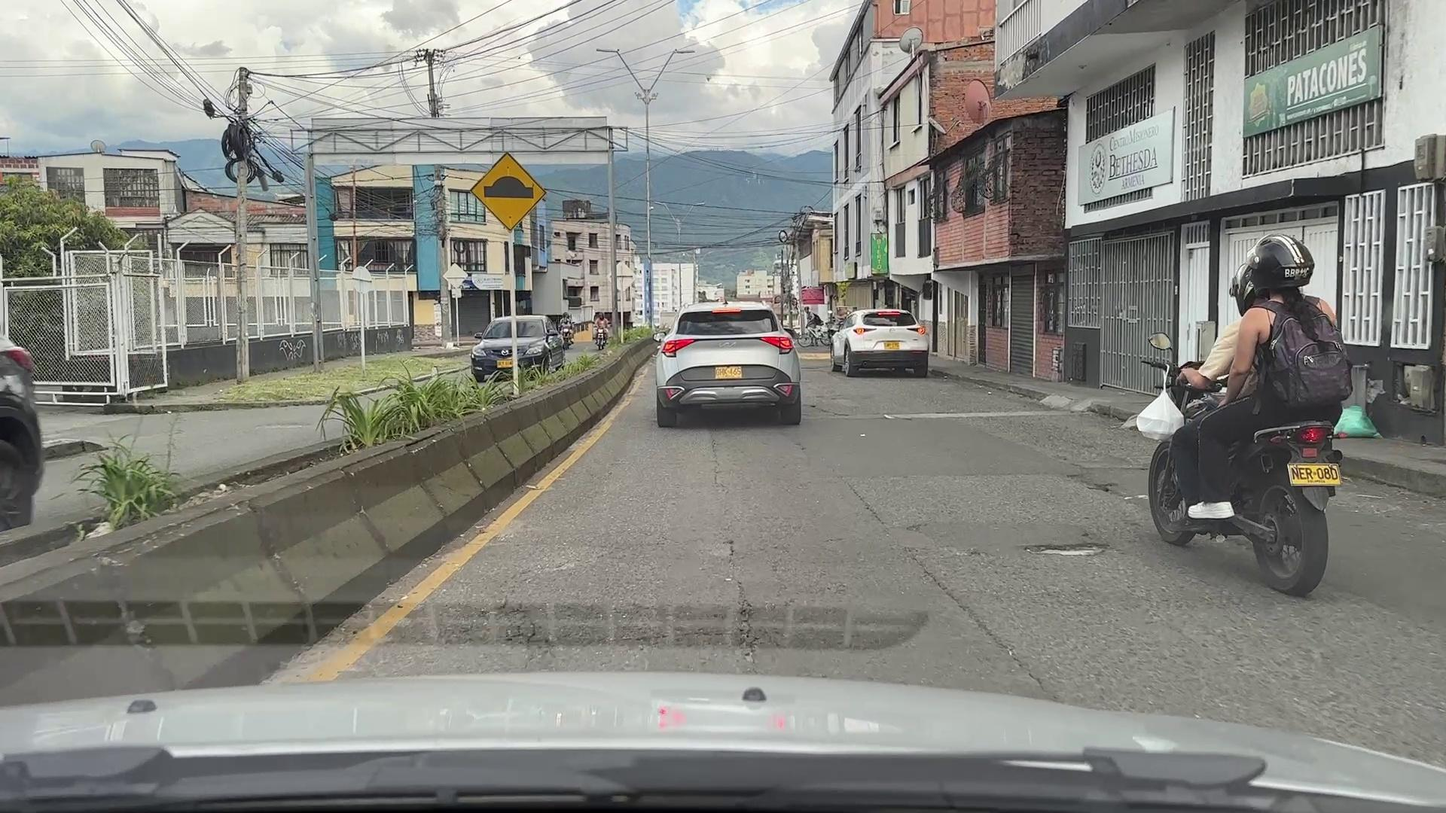bache: (1024, 543, 1108, 556)
grieta: (738, 580, 758, 669)
